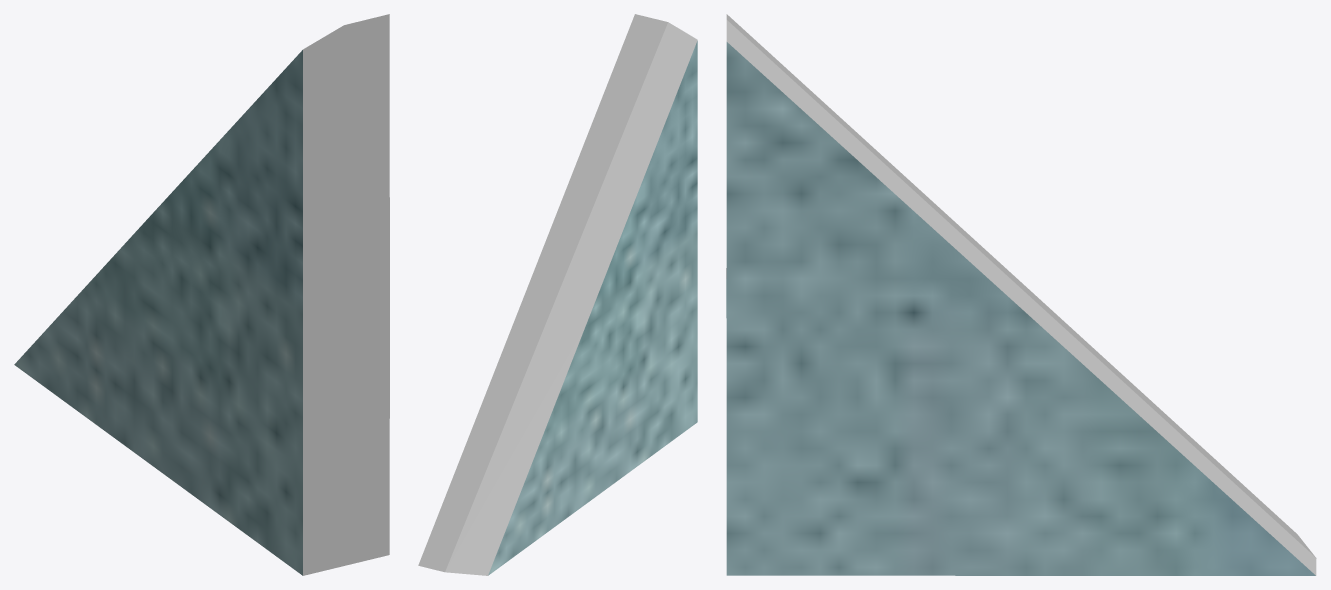
3 views of the same model, side by side, from view 1: azimuth 30°, elevation 25°; view 2: azimuth 150°, elevation 25°; view 3: azimuth 270°, elevation 25° (orthographic). The views are drawn at different scales.
Visible parts, largest first — view 1: Cube_cell.015_Mesh.015; view 2: Cube_cell.015_Mesh.015; view 3: Cube_cell.015_Mesh.015.
Part boxes in pixels (x1=…): Cube_cell.015_Mesh.015: x1=14, y1=14, x2=389, y2=575; Cube_cell.015_Mesh.015: x1=418, y1=14, x2=697, y2=575; Cube_cell.015_Mesh.015: x1=726, y1=14, x2=1316, y2=575.
Bounding box in the file's own units: 0.0832 × 0.4969 × 0.4972.
